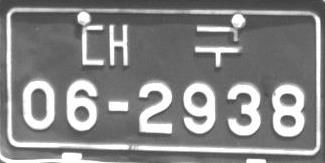0: (22, 79, 55, 131)
2: (138, 81, 173, 134)
3: (227, 83, 261, 136)
6: (65, 78, 98, 132)
8: (271, 84, 306, 138)
9: (182, 81, 216, 134)
대구_D: (81, 24, 242, 67)
